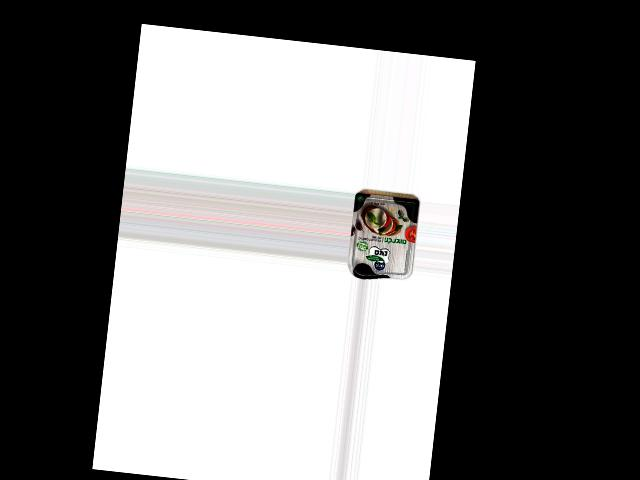cheese: (346, 191, 421, 283)
